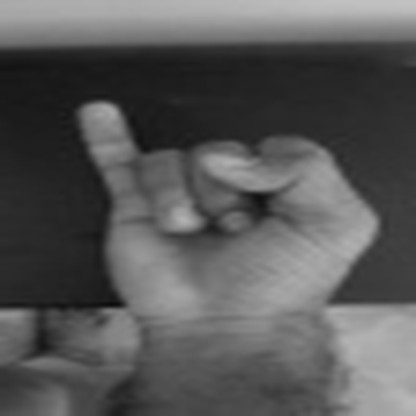i: (39, 90, 400, 314)
